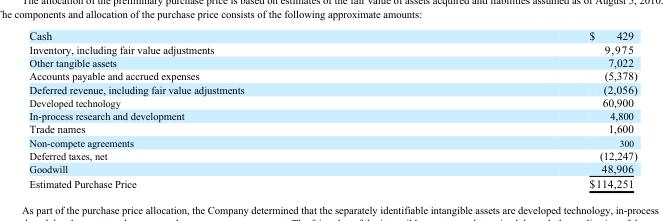table: (28, 29, 636, 189)
table column: (28, 29, 416, 189), (416, 29, 636, 189)
table row: (28, 68, 636, 82), (28, 121, 636, 135), (28, 161, 636, 175), (28, 175, 636, 189), (28, 29, 636, 42), (28, 42, 636, 55), (28, 55, 636, 68), (28, 82, 636, 95), (28, 95, 636, 108), (28, 108, 636, 121), (28, 135, 636, 148), (28, 148, 636, 161)
